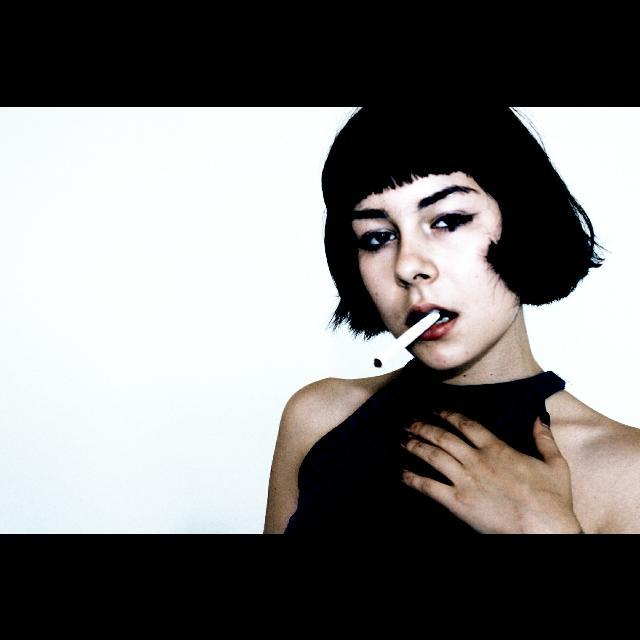rokok: (371, 309, 442, 371)
